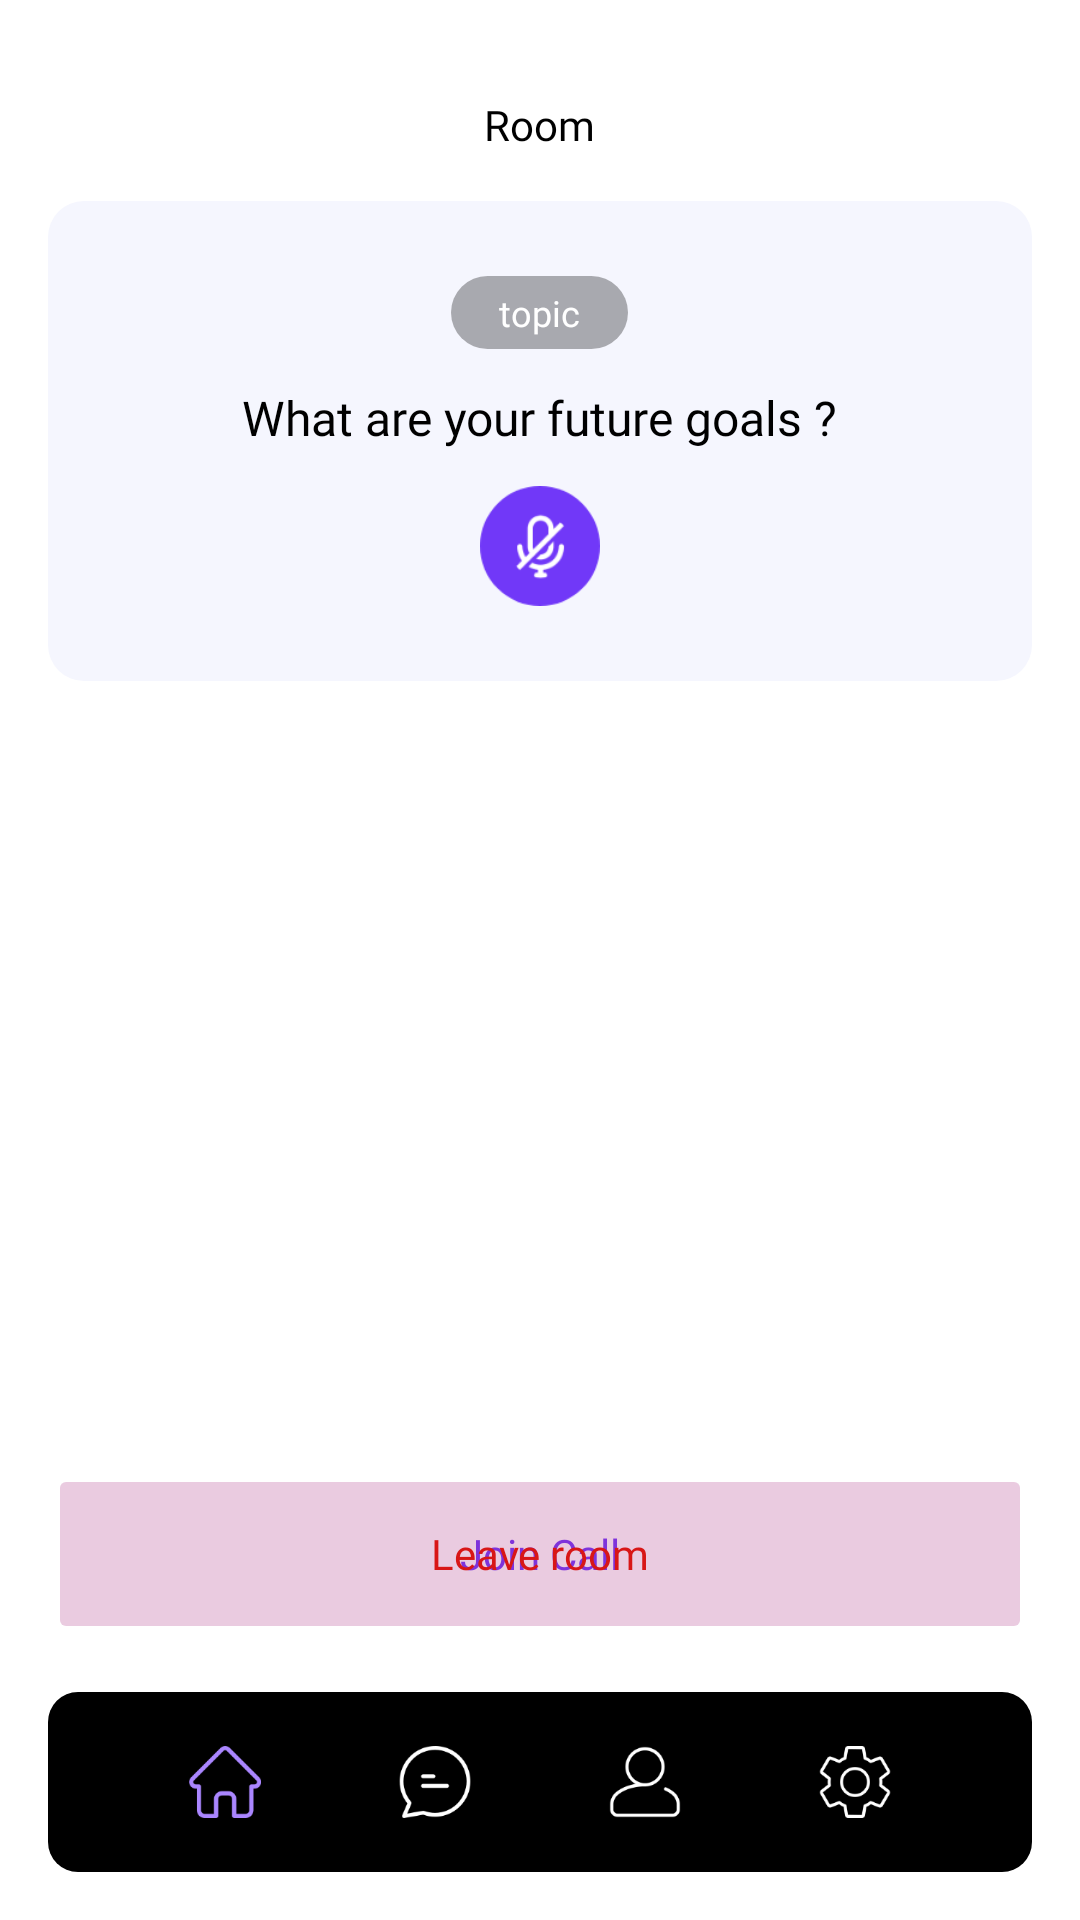

Icons on this 1080*1920 Android screen, each with its box as (x1, y1, x2, y2):
chatw: (399, 1746, 471, 1818)
homep: (189, 1746, 261, 1818)
mutebtn: (480, 486, 600, 606)
profilew: (610, 1747, 680, 1817)
settingsw: (819, 1746, 891, 1818)
